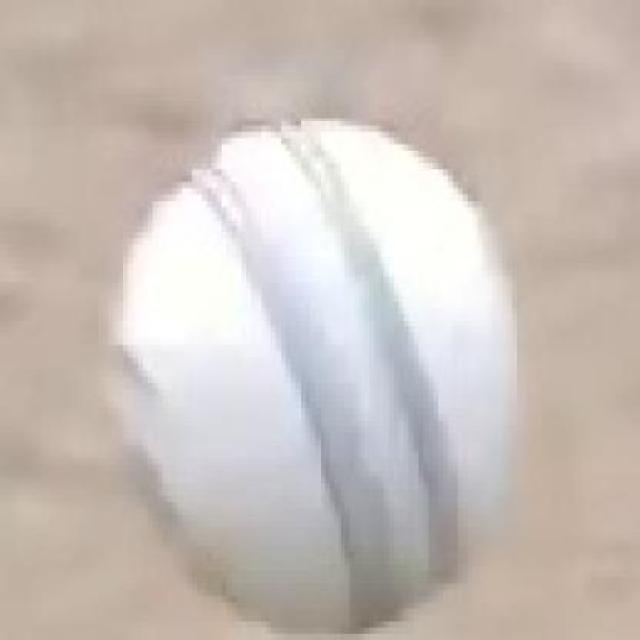Cricket ball: (91, 110, 531, 640)
